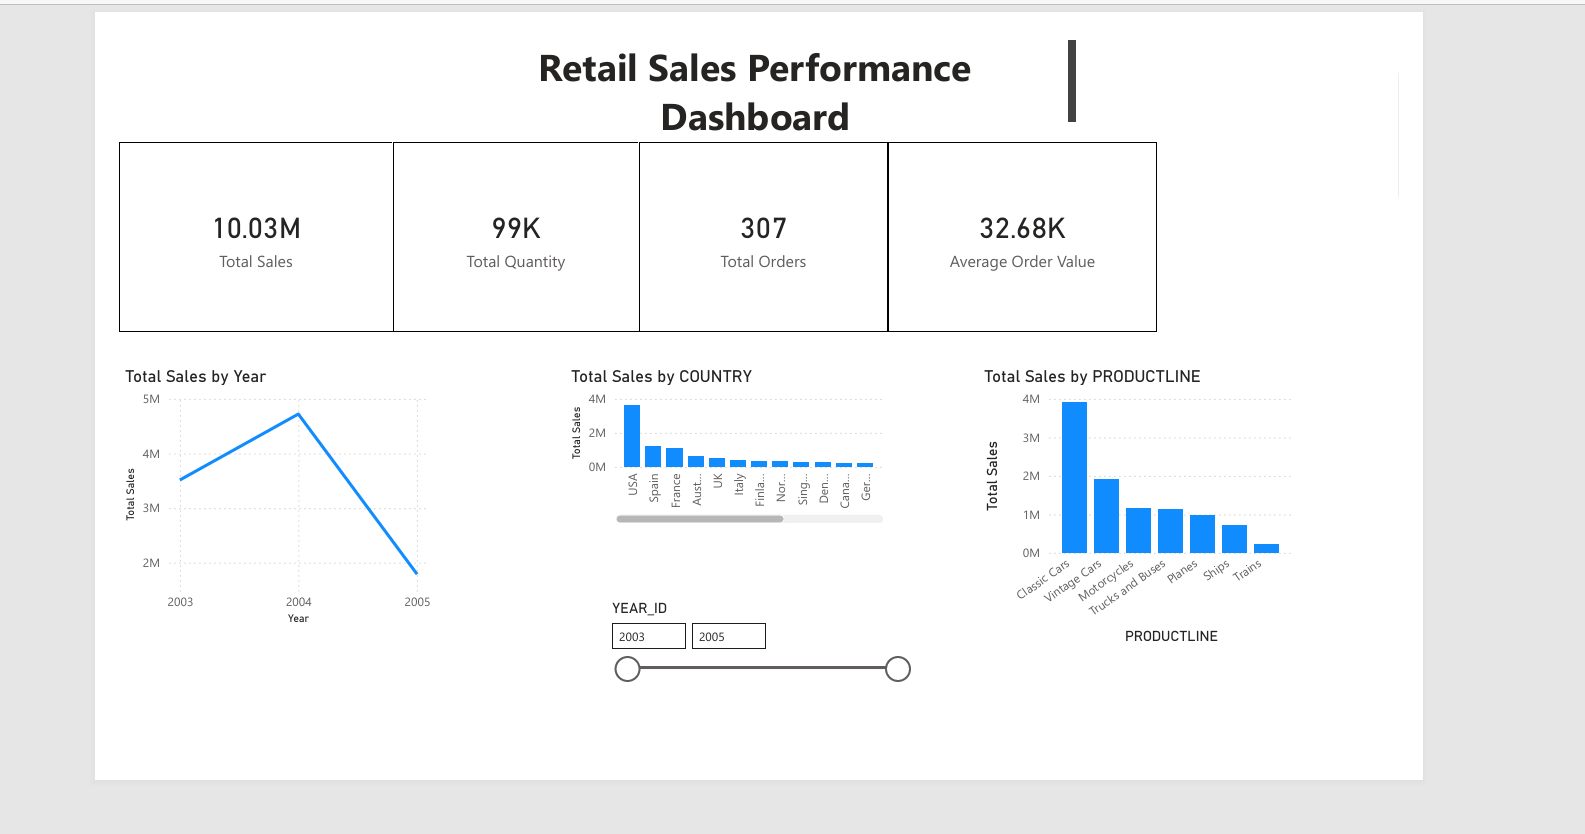

The dashboard page shown, as its layout file describes it:
{"tool":"powerbi","page":{"name":"Page 1","canvas":[1280,720],"ordinal":0},"visuals":[{"type":"card","fields":{"Values":["sales_data_sample.Total Sales"]},"box":[0,106,274,190],"z":0},{"type":"card","fields":{"Values":["sales_data_sample.Average Order Value"]},"box":[769,106,269,190],"z":1},{"type":"card","fields":{"Values":["sales_data_sample.Total Quantity"]},"box":[274,106,246,190],"z":2},{"type":"card","fields":{"Values":["sales_data_sample.Total Orders"]},"box":[520,106,249,190],"z":3},{"type":"lineChart","fields":{"Category":["sales_data_sample.ORDERDATE.Variation.Date Hierarchy.Year","sales_data_sample.ORDERDATE.Variation.Date Hierarchy.Quarter","sales_data_sample.ORDERDATE.Variation.Date Hierarchy.Month","sales_data_sample.ORDERDATE.Variation.Date Hierarchy.Day"],"Y":["sales_data_sample.Total Sales"]},"box":[1.9,295.5,321.4,283.1],"z":4},{"type":"clusteredColumnChart","fields":{"Category":["sales_data_sample.COUNTRY"],"Y":["sales_data_sample.Total Sales"]},"box":[95,557,321,161],"z":5},{"type":"clusteredColumnChart","fields":{"Category":["sales_data_sample.PRODUCTLINE"],"Y":["sales_data_sample.Total Sales"]},"box":[860,435,319,283],"z":6},{"type":"slicer","fields":{"Values":["sales_data_sample.YEAR_ID"]},"box":[493,559,320,159],"z":7},{"type":"textbox","box":[316.6,0,646.7,106.5],"z":8}]}

Visuals, with their boxes on the page's 1280x720 design canvas (x1, y1, x2, y2). These are canvas units, not pixel positions in the 1585x834 screenshot, which may show the page scaled, cropped or inside an application window:
card - sales_data_sample.Total Sales: bbox=(0, 106, 274, 296)
card - sales_data_sample.Average Order Value: bbox=(769, 106, 1038, 296)
card - sales_data_sample.Total Quantity: bbox=(274, 106, 520, 296)
card - sales_data_sample.Total Orders: bbox=(520, 106, 769, 296)
lineChart - sales_data_sample.ORDERDATE.Variation.Date Hierarchy.Year x sales_data_sample.ORDERDATE.Variation.Date Hierarchy.Quarter: bbox=(2, 296, 323, 579)
clusteredColumnChart - sales_data_sample.COUNTRY x sales_data_sample.Total Sales: bbox=(95, 557, 416, 718)
clusteredColumnChart - sales_data_sample.PRODUCTLINE x sales_data_sample.Total Sales: bbox=(860, 435, 1179, 718)
slicer - sales_data_sample.YEAR_ID: bbox=(493, 559, 813, 718)
textbox: bbox=(317, 0, 963, 106)
